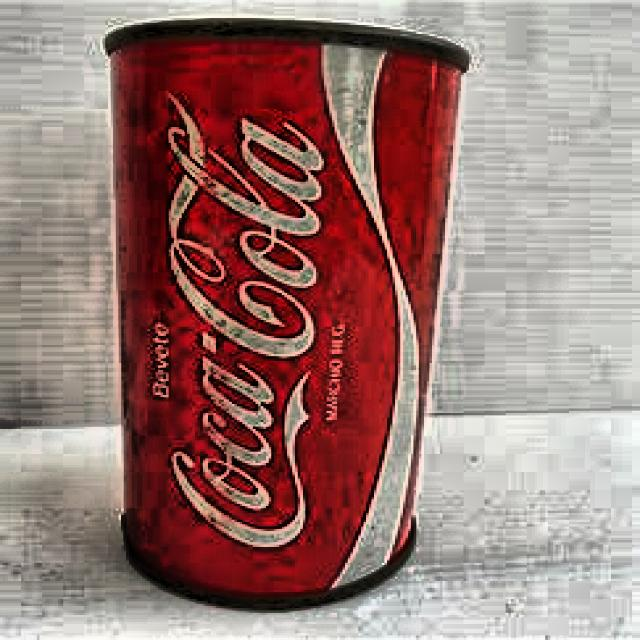Cans: (91, 2, 449, 638)
